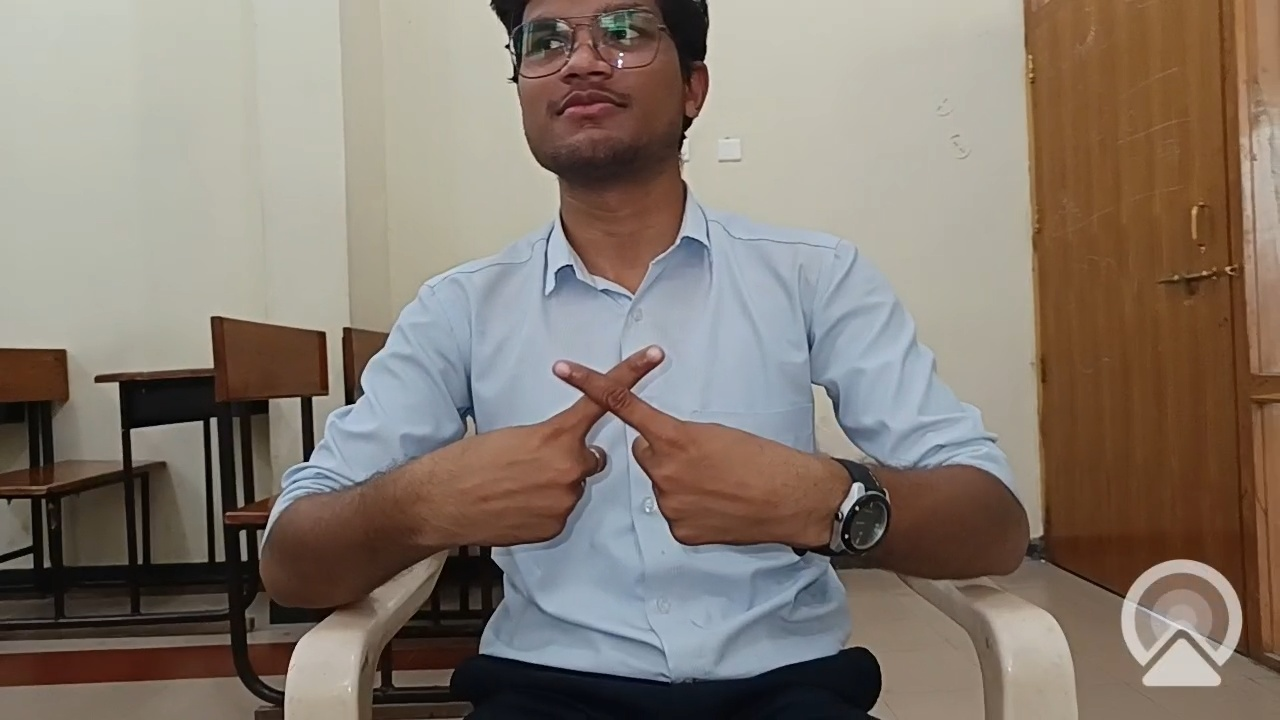X: (372, 333, 838, 646)
